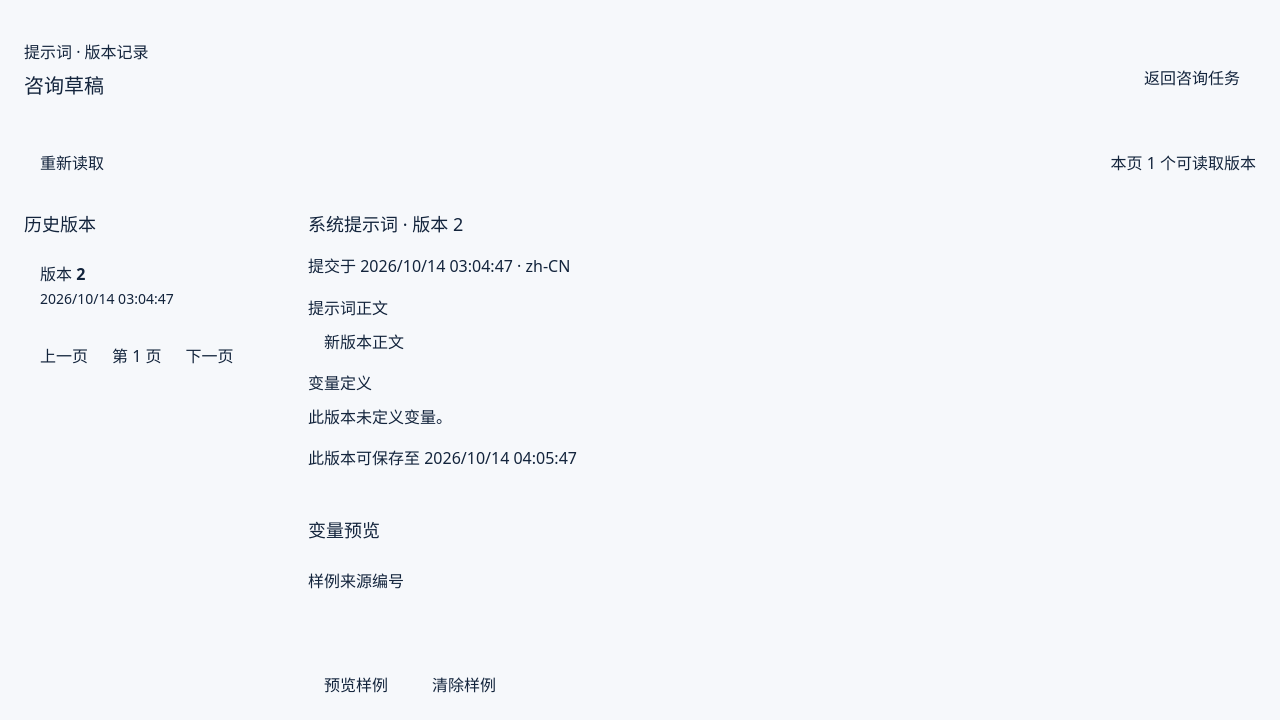
Test: history pagination makes a fresh exact read
This screenshot has width=1280, height=720.
Check: the text "新版本正文" is shown, box [324,331,404,353]
Click the button "下一页" at [210, 356], box [170,334,250,378]
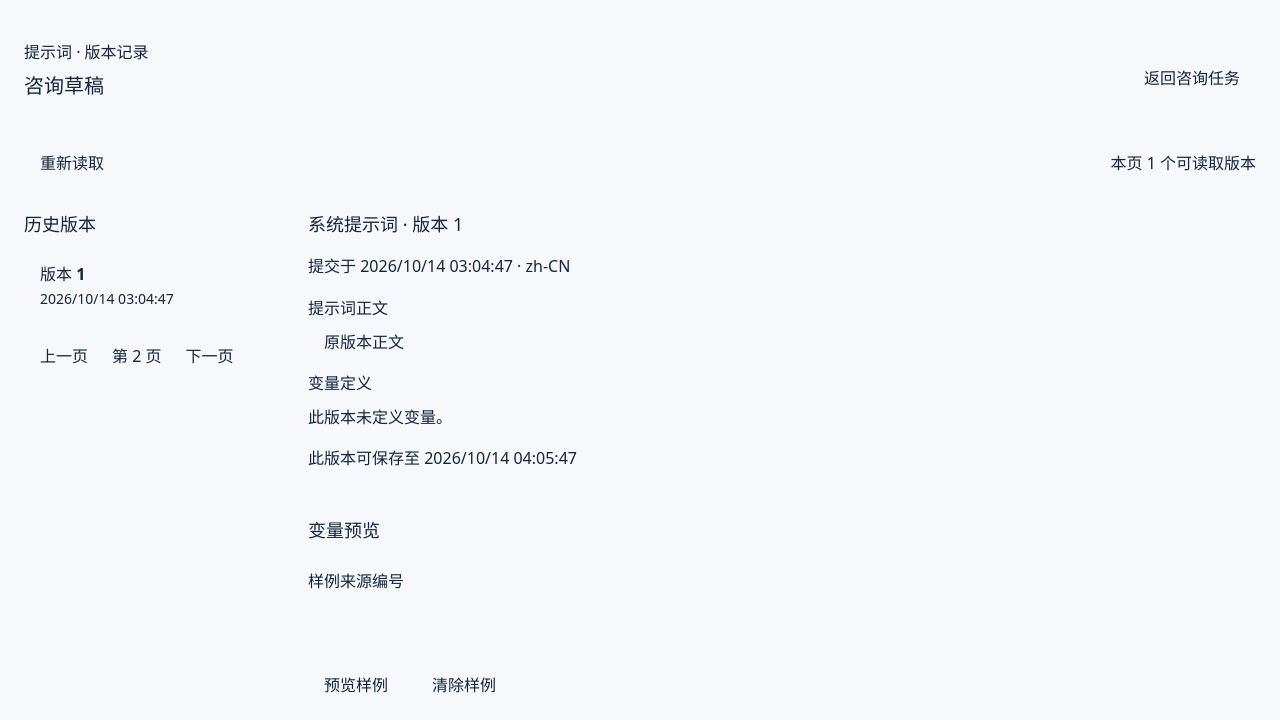
Check: the text "原版本正文" is shown, box [324,331,404,353]
Check: the text "第 2 页" is shown, box [112,344,162,369]
